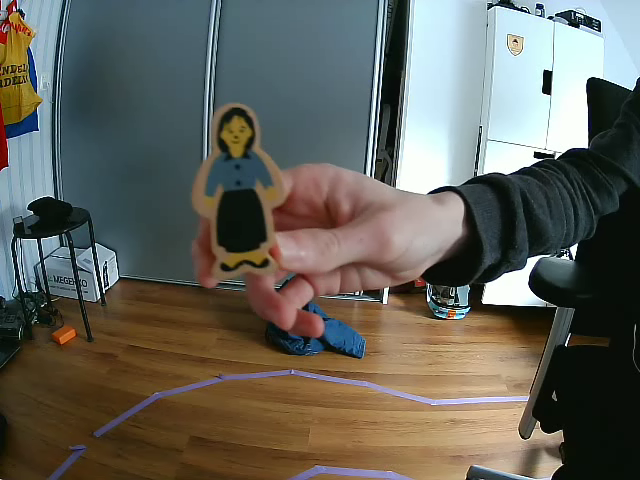mens: (188, 104, 288, 275)
